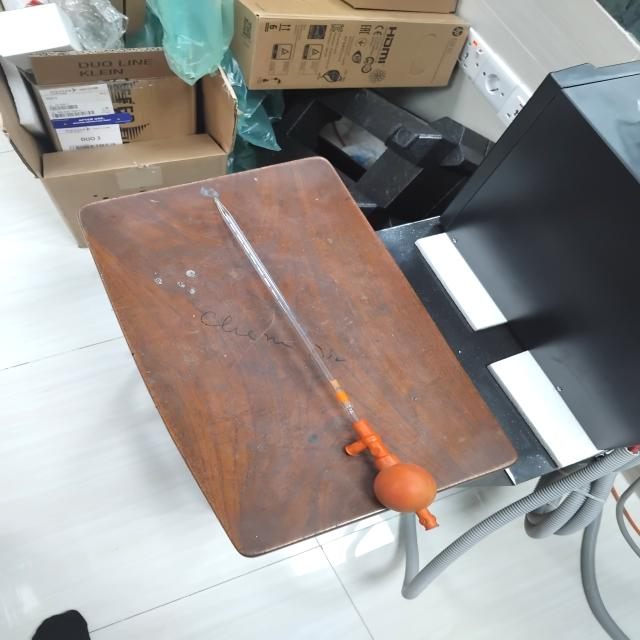Volumetric_Pipet: (187, 175, 459, 581)
